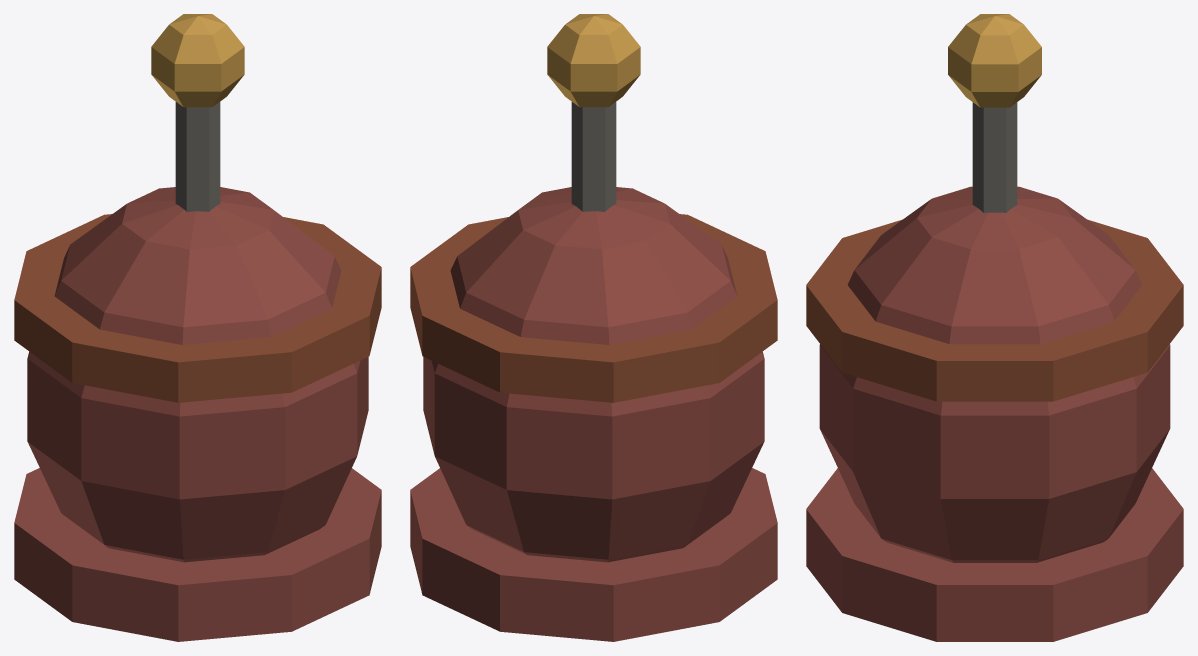
The model's file is P_Buoy.glb.
3 renders of one model, left to right at view 1: azimuth 30°, elevation 25°; view 2: azimuth 150°, elevation 25°; view 3: azimuth 270°, elevation 25°, orthographic.
Visible parts, largest first — view 1: P_Buoy; view 2: P_Buoy; view 3: P_Buoy.
Boxes of the visible parts, x1,y1,x2,y2 form: P_Buoy: [14, 14, 381, 641]; P_Buoy: [410, 14, 777, 641]; P_Buoy: [806, 14, 1183, 641].
Size of the model in its own units: 0.7989 by 1.37 by 0.84.
